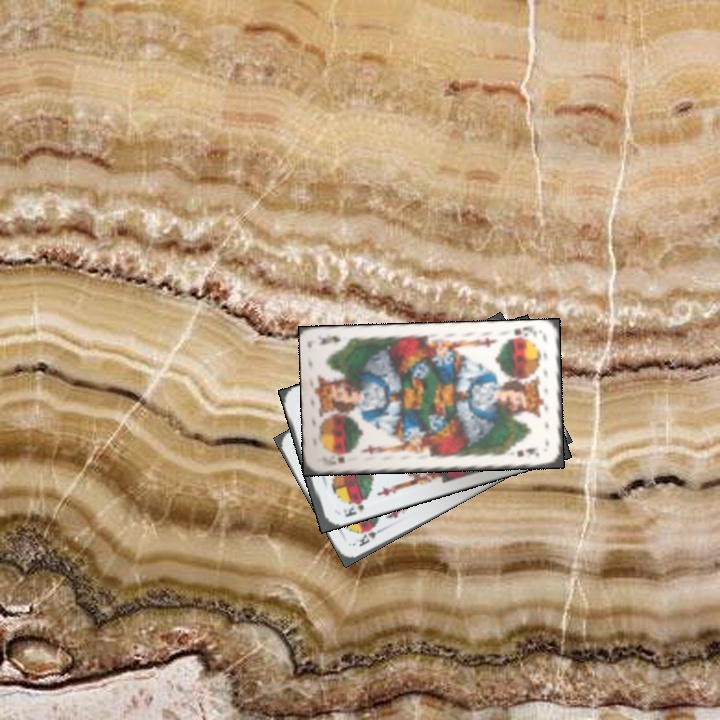SK: (352, 524, 387, 549), (339, 495, 369, 520), (503, 323, 539, 343), (318, 452, 347, 468)
